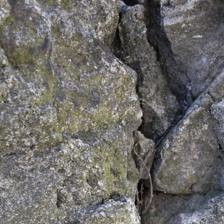Crack: (0, 0, 142, 95), (33, 65, 127, 124)
